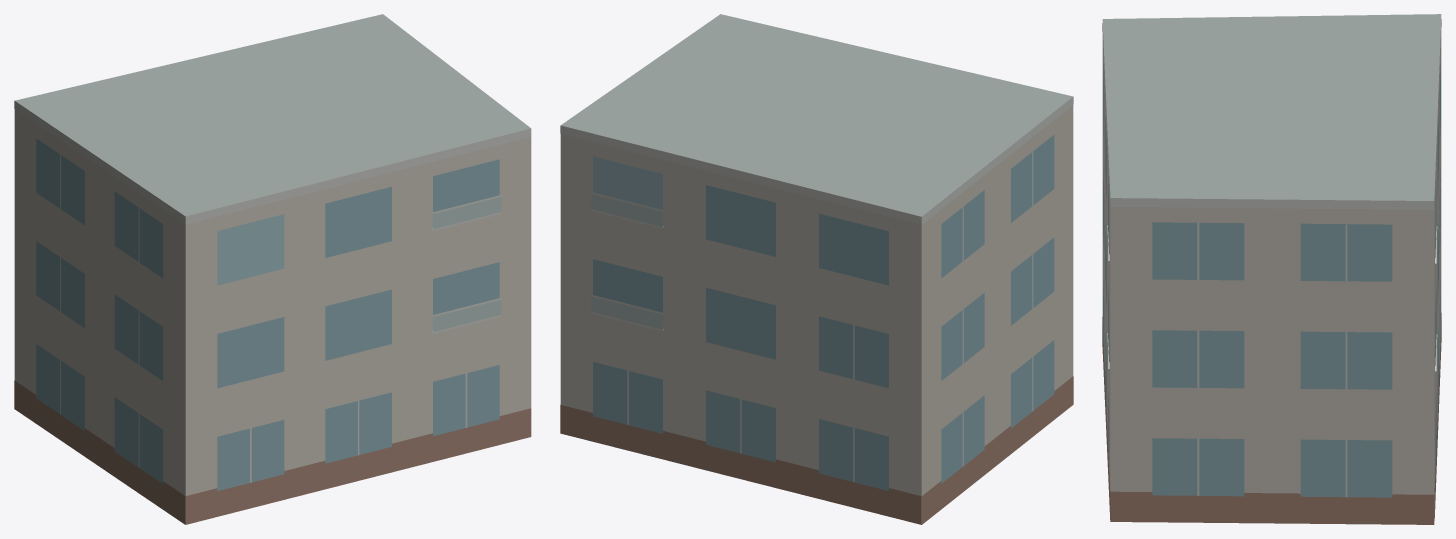
The model's file is survey-upis-32769330.glb.
The picture shows the model from 3 angles, left to right: view 1: azimuth 30°, elevation 25°; view 2: azimuth 150°, elevation 25°; view 3: azimuth 270°, elevation 25°; orthographic projection. The views are drawn at different scales.
Parts seen in each view (by area): view 1: survey-upis-32769330.tmp; view 2: survey-upis-32769330.tmp; view 3: survey-upis-32769330.tmp.
Part boxes in pixels (bbox=[...]): survey-upis-32769330.tmp: bbox=[14, 14, 531, 524]; survey-upis-32769330.tmp: bbox=[560, 14, 1073, 524]; survey-upis-32769330.tmp: bbox=[1102, 14, 1441, 524].
Size of the model in its own units: 11.28 by 9.1 by 8.64.
